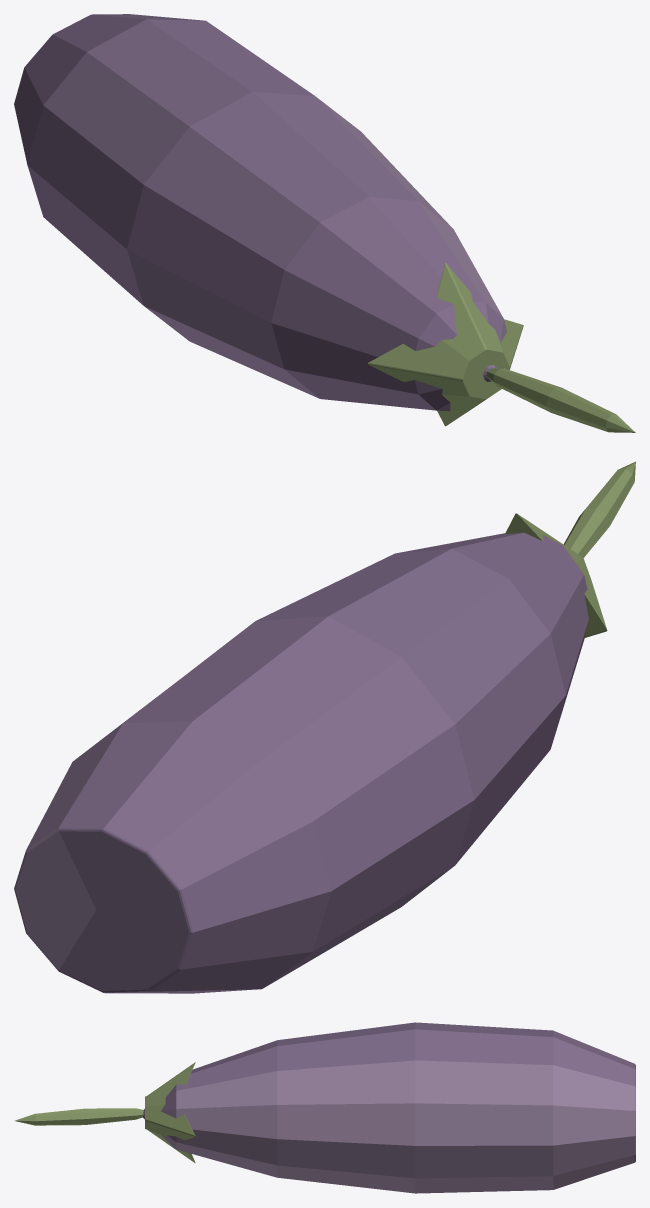
File: Eggplant.glb
The picture shows the model from 3 angles, top to bottom: view 1: azimuth 30°, elevation 25°; view 2: azimuth 150°, elevation 25°; view 3: azimuth 270°, elevation 25°; orthographic projection. The views are drawn at different scales.
Parts seen in each view (by area): view 1: Eggplant; view 2: Eggplant; view 3: Eggplant.
Boxes of the visible parts, x1=… form: Eggplant: x1=14, y1=14, x2=635, y2=432; Eggplant: x1=14, y1=461, x2=635, y2=993; Eggplant: x1=14, y1=1022, x2=635, y2=1193.
Size of the model in its own units: 0.0631 by 0.0609 by 0.2182.
